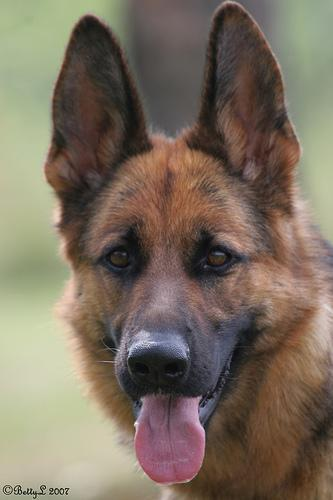German_shepherd: (41, 0, 331, 498)
